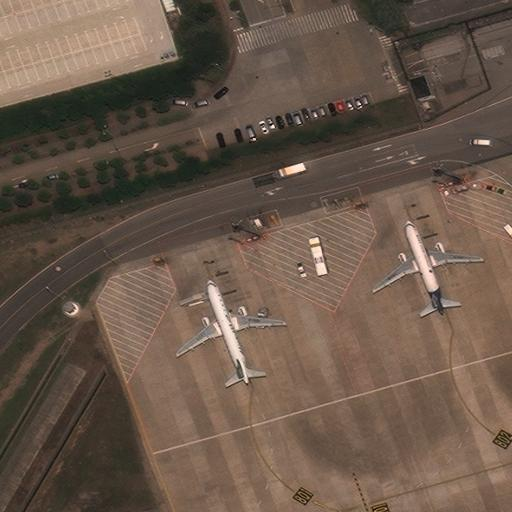Medium Civil Transport: (174, 279, 283, 384), (373, 220, 480, 315)
